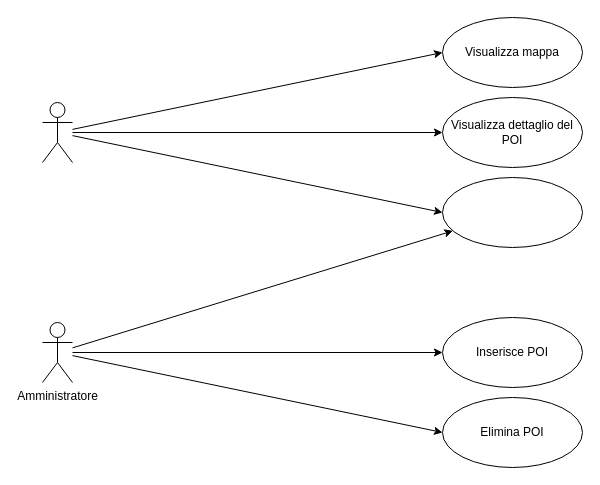
Some shapes in this 600 by 485 pixel diagram are drawn without their labels. The centre of each missing label's shape, as x and y in pixels:
"Utente" belongs at point (57, 132).
"Visualizza elenco dei POI" belongs at point (512, 212).
